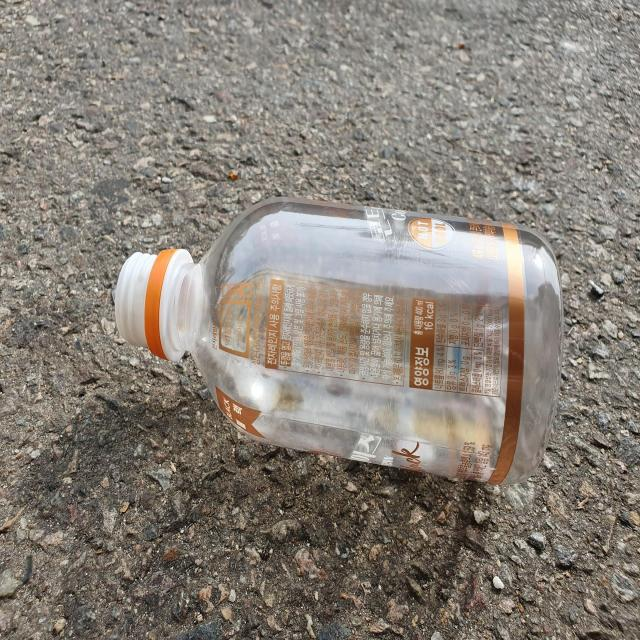plastic: (114, 198, 564, 485)
